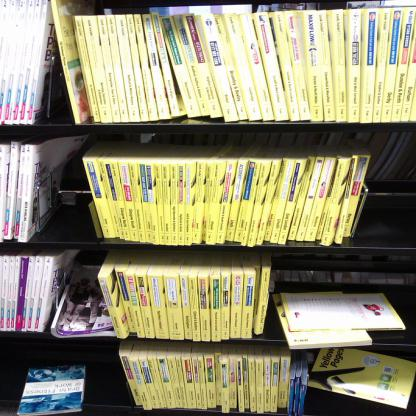book: (0, 0, 416, 135), (0, 247, 416, 344), (74, 137, 376, 244), (117, 338, 311, 416), (0, 134, 97, 239), (304, 346, 416, 412), (260, 288, 372, 351), (46, 262, 124, 340), (278, 288, 406, 332), (13, 361, 92, 416), (359, 128, 416, 184)
